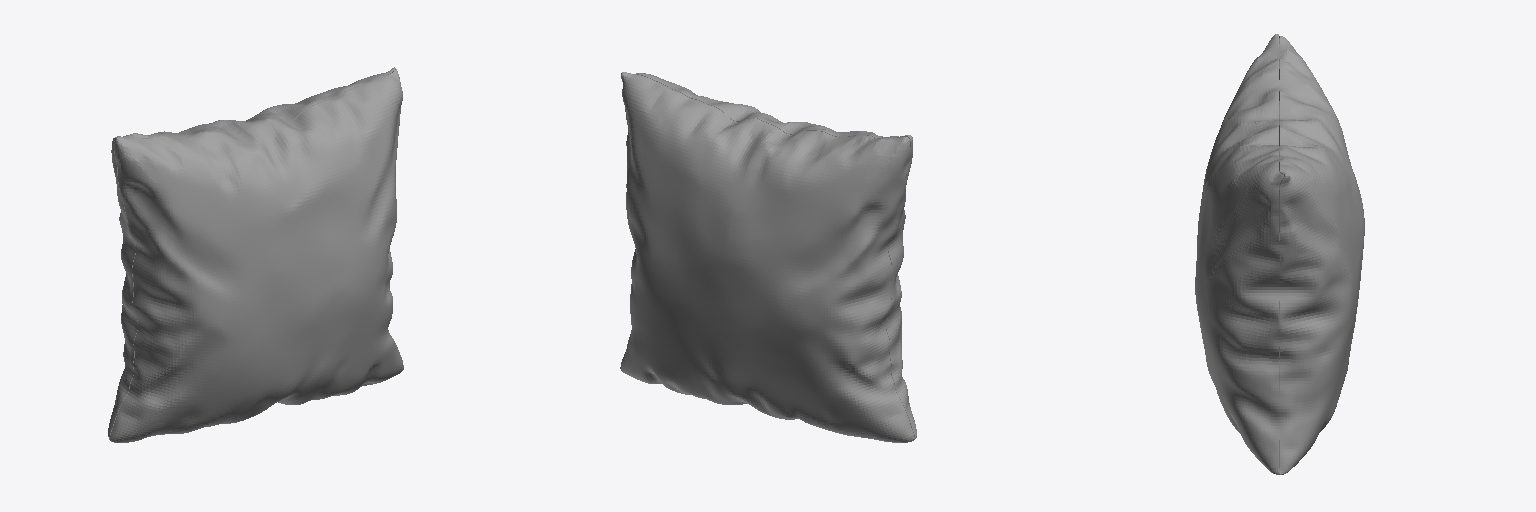
The model's file is Pillow_highpoly.obj.
3 views of the same model, side by side, from view 1: azimuth 30°, elevation 25°; view 2: azimuth 150°, elevation 25°; view 3: azimuth 270°, elevation 25° (orthographic).
Parts seen in each view (by area): view 1: Pillow_high_poly_Cube.032; view 2: Pillow_high_poly_Cube.032; view 3: Pillow_high_poly_Cube.032.
Part boxes in pixels (left/top/right/bottom): Pillow_high_poly_Cube.032: left=108, top=67, right=403, bottom=442; Pillow_high_poly_Cube.032: left=620, top=72, right=916, bottom=442; Pillow_high_poly_Cube.032: left=1195, top=34, right=1364, bottom=474.
Bounding box in the file's own units: 0.4 × 0.4 × 0.2.